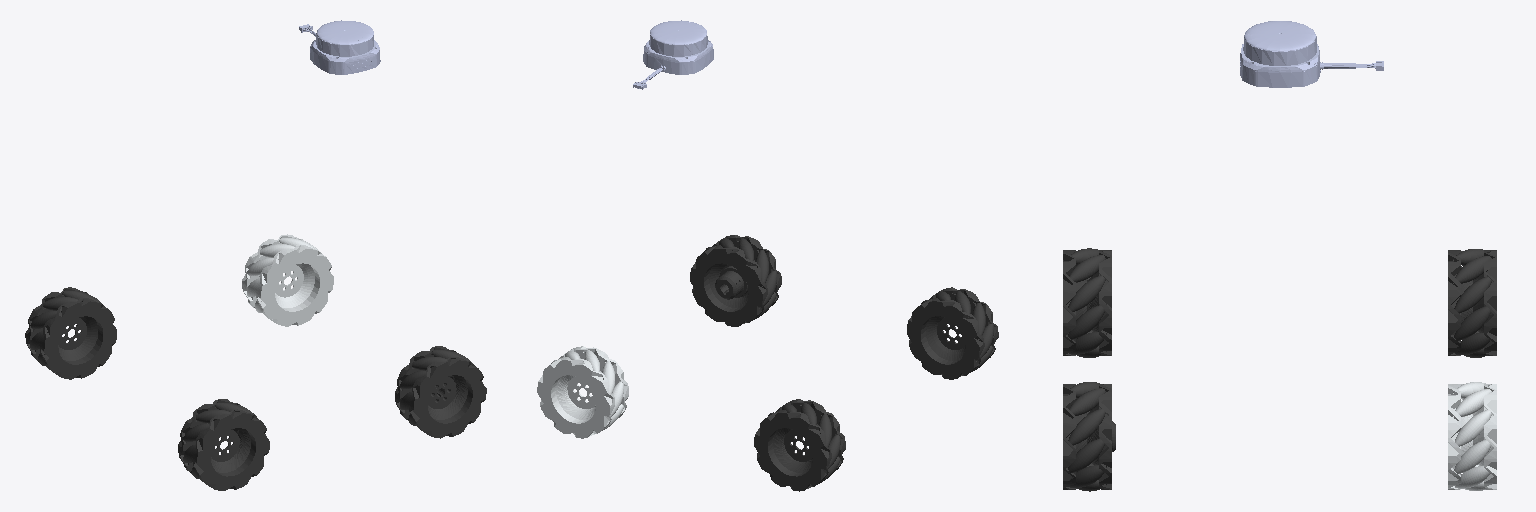
robot.urdf — seeker_description:
<?xml version="1.0" encoding="utf-8"?>
<!-- This URDF was automatically created by SolidWorks to URDF Exporter! Originally created by [author] ([email redacted]) 
     Commit Version: 1.6.0-4-g7f85cfe  Build Version: 1.6.7995.38578
     For more information, please see http://wiki.ros.org/sw_urdf_exporter -->
<robot
  name="seeker_description">
  <link
    name="base_link">
    <inertial>
      <origin
        xyz="0 0 0"
        rpy="0 0 180" />
      <mass
        value="18.4562925765378" />
      <inertia
        ixx="0.256210728643185"
        ixy="6.56310068382339E-05"
        ixz="-0.00180877112495313"
        iyy="0.188299729850926"
        iyz="-2.10390967866857E-05"
        izz="0.145737478909493" />
    </inertial>
    <visual>
      <origin
        xyz="0 0 0"
        rpy="0 0 0" />
      <geometry>
        <mesh
          filename="package://seeker_description/meshes/base_link.STL" />
      </geometry>
      <material
        name="">
        <color
          rgba="0.152941176470588 1 0.596078431372549 1" />
      </material>
    </visual>
    <collision>
      <origin
        xyz="0 0 0"
        rpy="0 0 0" />
      <geometry>
        <mesh
          filename="package://seeker_description/meshes/base_link.STL" />
      </geometry>
    </collision>
  </link>
  <link
    name="front_right_link">
    <inertial>
      <origin
        xyz="-5.13024805970375E-08 -0.00877234222415185 6.89433152897823E-06"
        rpy="0 0 0" />
      <mass
        value="0.416037886047751" />
      <inertia
        ixx="0.000256520186506121"
        ixy="4.61385776440181E-10"
        ixz="3.9807927997381E-10"
        iyy="0.000479257131749694"
        iyz="-4.26781001354124E-09"
        izz="0.000256542673895954" />
    </inertial>
    <visual>
      <origin
        xyz="0 0 0"
        rpy="0 0 0" />
      <geometry>
        <mesh
          filename="package://seeker_description/meshes/front_right_link.STL" />
      </geometry>
      <material
        name="">
        <color
          rgba="0.298039215686275 0.298039215686275 0.298039215686275 1" />
      </material>
    </visual>
    <collision>
      <origin
        xyz="0 0 0"
        rpy="0 0 0" />
      <geometry>
        <mesh
          filename="package://seeker_description/meshes/front_right_link.STL" />
      </geometry>
    </collision>
  </link>
  <joint
    name="front_right_joint"
    type="continuous">
    <origin
      xyz="0.14942 -0.17343 -0.3725"
      rpy="0 0 0" />
    <parent
      link="base_link" />
    <child
      link="front_right_link" />
    <axis
      xyz="0 1 0" />
    <limit
      effort="1000"
      velocity="10" />
  </joint>
  <link
    name="front_left_link">
    <inertial>
      <origin
        xyz="5.76423534737192E-08 0.0101315333235539 2.90000992594908E-08"
        rpy="0 0 0" />
      <mass
        value="0.370238645739765" />
      <inertia
        ixx="0.000250201173071859"
        ixy="4.61362866002329E-10"
        ixz="-3.98072218441376E-10"
        iyy="0.000471946895325548"
        iyz="1.76423567461658E-10"
        izz="0.000250204831386972" />
    </inertial>
    <visual>
      <origin
        xyz="0 0 0"
        rpy="0 0 0" />
      <geometry>
        <mesh
          filename="package://seeker_description/meshes/front_left_link.STL" />
      </geometry>
      <material
        name="">
        <color
          rgba="0.898039215686275 0.917647058823529 0.929411764705882 1" />
      </material>
    </visual>
    <collision>
      <origin
        xyz="0 0 0"
        rpy="0 0 0" />
      <geometry>
        <mesh
          filename="package://seeker_description/meshes/front_left_link.STL" />
      </geometry>
    </collision>
  </link>
  <joint
    name="front_left_joint"
    type="continuous">
    <origin
      xyz="0.14942 0.17245 -0.3725"
      rpy="0 0 0" />
    <parent
      link="base_link" />
    <child
      link="front_left_link" />
    <axis
      xyz="0 1 0" />
    <limit
      effort="1000"
      velocity="10" />
  </joint>
  <link
    name="back_right_link">
    <inertial>
      <origin
        xyz="-5.7642353418208E-08 -0.356012658547887 2.90000992733686E-08"
        rpy="0 0 0" />
      <mass
        value="0.370238645739766" />
      <inertia
        ixx="0.000250201173071859"
        ixy="4.61362865956043E-10"
        ixz="3.98072218443694E-10"
        iyy="0.000471946895325548"
        iyz="-1.7642356673835E-10"
        izz="0.000250204831386972" />
    </inertial>
    <visual>
      <origin
        xyz="0 0 0"
        rpy="0 0 0" />
      <geometry>
        <mesh
          filename="package://seeker_description/meshes/back_right_link.STL" />
      </geometry>
      <material
        name="">
        <color
          rgba="0.298039215686275 0.298039215686275 0.298039215686275 1" />
      </material>
    </visual>
    <collision>
      <origin
        xyz="0 0 0"
        rpy="0 0 0" />
      <geometry>
        <mesh
          filename="package://seeker_description/meshes/back_right_link.STL" />
      </geometry>
    </collision>
  </link>
  <joint
    name="back_right_joint"
    type="continuous">
    <origin
      xyz="-0.15058 0.17245 -0.3725"
      rpy="0 0 0" />
    <parent
      link="base_link" />
    <child
      link="back_right_link" />
    <axis
      xyz="0 -1 0" />
    <limit
      effort="1000"
      velocity="10" />
  </joint>
  <link
    name="back_left_link">
    <inertial>
      <origin
        xyz="5.7642353418208E-08 0.356012658547887 2.90000992386741E-08"
        rpy="0 0 0" />
      <mass
        value="0.370238645739765" />
      <inertia
        ixx="0.000250201173071859"
        ixy="4.61362865920653E-10"
        ixz="-3.98072218315937E-10"
        iyy="0.000471946895325548"
        iyz="1.76423566789701E-10"
        izz="0.000250204831386972" />
    </inertial>
    <visual>
      <origin
        xyz="0 0 0"
        rpy="0 0 0" />
      <geometry>
        <mesh
          filename="package://seeker_description/meshes/back_left_link.STL" />
      </geometry>
      <material
        name="">
        <color
          rgba="0.298039215686275 0.298039215686275 0.298039215686275 1" />
      </material>
    </visual>
    <collision>
      <origin
        xyz="0 0 0"
        rpy="0 0 0" />
      <geometry>
        <mesh
          filename="package://seeker_description/meshes/back_left_link.STL" />
      </geometry>
    </collision>
  </link>
  <joint
    name="back_left_joint"
    type="continuous">
    <origin
      xyz="-0.15058 -0.17343 -0.3725"
      rpy="0 0 0" />
    <parent
      link="base_link" />
    <child
      link="back_left_link" />
    <axis
      xyz="0 -1 0" />
    <limit
      effort="1000"
      velocity="10" />
  </joint>
  <link
    name="laser">
    <inertial>
      <origin
        xyz="-0.158703771276624 0.000932343170675927 -0.259691214061197"
        rpy="0 0 0" />
      <mass
        value="28.9160237532607" />
      <inertia
        ixx="2.39217543646588"
        ixy="-0.00150271372858997"
        ixz="0.330768683261069"
        iyy="2.53274754429052"
        iyz="0.000921445190494185"
        izz="1.18356101818861" />
    </inertial>
    <visual>
      <origin
        xyz="0 0 0"
        rpy="0 0 0" />
      <geometry>
        <mesh
          filename="package://seeker_description/meshes/laser.STL" />
      </geometry>
      <material
        name="">
        <color
          rgba="0.792156862745098 0.819607843137255 0.933333333333333 1" />
      </material>
    </visual>
    <collision>
      <origin
        xyz="0 0 0"
        rpy="0 0 0" />
      <geometry>
        <mesh
          filename="package://seeker_description/meshes/laser.STL" />
      </geometry>
    </collision>
  </link>
  <joint
    name="laser_joint"
    type="fixed">
    <origin
      xyz="0.13 -0 0"
      rpy="0 0 3.1415926" />
    <parent
      link="base_link" />
    <child
      link="laser" />
    <axis
      xyz="0 0 0" />
  </joint>
</robot>

--- Render facts (derived) ---
Views: 3 orthographic renders of the robot side by side, from view 1: azimuth 30°, elevation 25°; view 2: azimuth 150°, elevation 25°; view 3: azimuth 270°, elevation 25°.
Model seeker_description with 6 links and 5 joints (4 continuous, 1 fixed), rooted at base_link, posed all joints at 0.
Visible links, largest first — view 1: front_right_link, back_right_link, front_left_link, back_left_link, laser; view 2: front_right_link, back_right_link, back_left_link, front_left_link, laser; view 3: front_right_link, back_right_link, front_left_link, back_left_link, laser.
Boxes of the visible links, bbox=[...] form: front_right_link: bbox=[395, 346, 486, 438]; back_right_link: bbox=[178, 399, 269, 490]; front_left_link: bbox=[242, 234, 333, 326]; back_left_link: bbox=[25, 287, 116, 379]; laser: bbox=[299, 20, 380, 74]; front_right_link: bbox=[690, 235, 781, 326]; back_right_link: bbox=[907, 287, 998, 379]; back_left_link: bbox=[754, 399, 845, 491]; front_left_link: bbox=[537, 346, 628, 438]; laser: bbox=[633, 20, 713, 89]; front_right_link: bbox=[1063, 382, 1115, 491]; back_right_link: bbox=[1063, 248, 1111, 357]; front_left_link: bbox=[1448, 382, 1496, 490]; back_left_link: bbox=[1448, 249, 1496, 357]; laser: bbox=[1240, 21, 1383, 87].
Bounding box of the posed robot: 0.4047 × 0.4122 × 0.4619 m (x, y, z).
5 mesh visuals loaded from 6 distinct referenced files (5 binary STL); not drawn: 1 (reference not matched to a file when rendering).